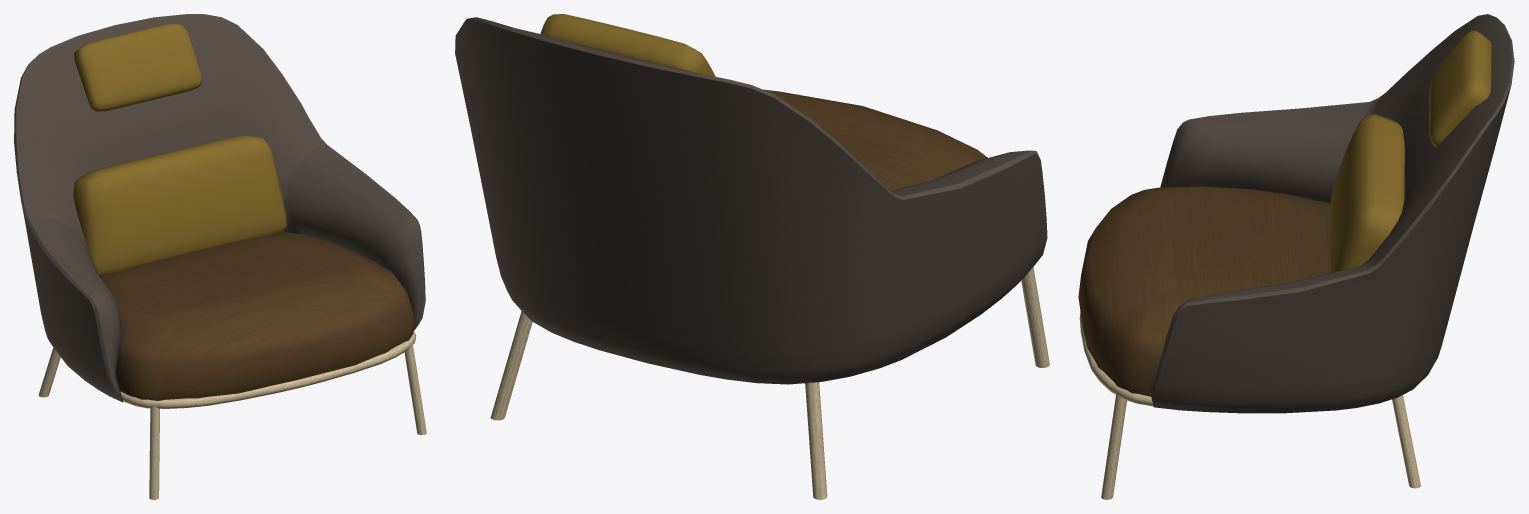
Rendered from LoungeChair3.fbx.
3 views of the same model, side by side, from view 1: azimuth 30°, elevation 25°; view 2: azimuth 150°, elevation 25°; view 3: azimuth 270°, elevation 25° (orthographic). The views are drawn at different scales.
Parts seen in each view (by area): view 1: LoungeChair; view 2: LoungeChair; view 3: LoungeChair.
Part boxes in pixels (left/top/right/bottom): LoungeChair: left=14, top=14, right=426, bottom=499; LoungeChair: left=455, top=14, right=1049, bottom=499; LoungeChair: left=1078, top=14, right=1514, bottom=499.
Bounding box in the file's own units: 83.37 × 76.53 × 82.48.
